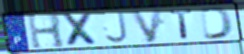D: (199, 6, 236, 41)
H: (26, 13, 68, 50)
J: (104, 11, 130, 45)
T: (169, 8, 196, 40)
V: (129, 8, 164, 44)
X: (60, 12, 101, 47)
